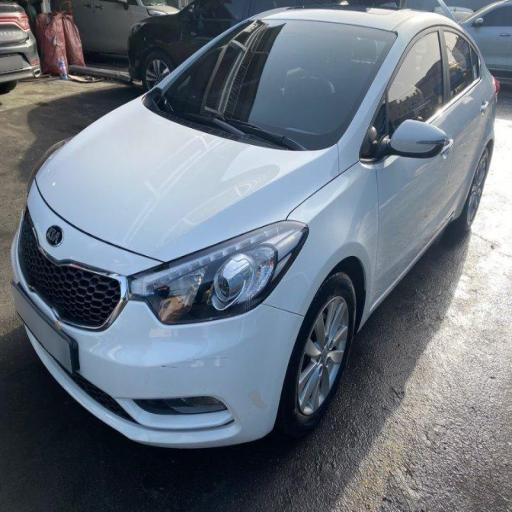dent: (64, 220, 267, 398)
